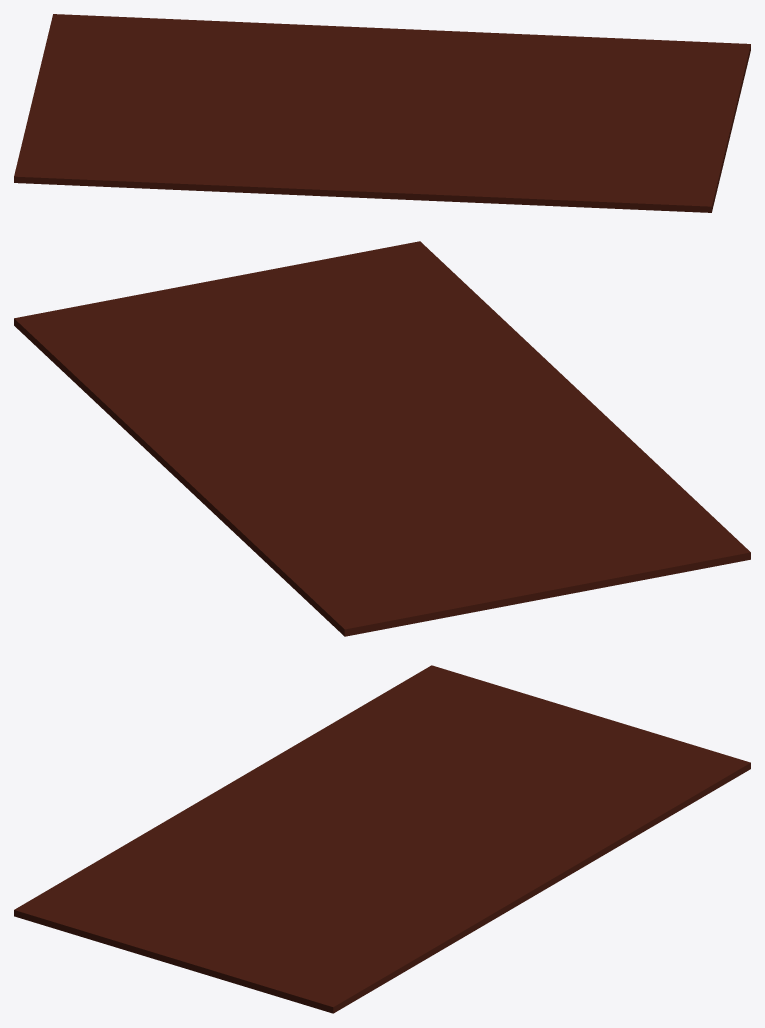
File: trab edu tapete2.fbx
The picture shows the model from 3 angles, top to bottom: view 1: azimuth 30°, elevation 25°; view 2: azimuth 150°, elevation 25°; view 3: azimuth 270°, elevation 25°; orthographic projection. The views are drawn at different scales.
Parts seen in each view (by area): view 1: Cubo.003; view 2: Cubo.003; view 3: Cubo.003.
Boxes of the visible parts, bbox=[...] form: Cubo.003: bbox=[14, 14, 750, 212]; Cubo.003: bbox=[14, 241, 750, 636]; Cubo.003: bbox=[14, 665, 750, 1013].
Size of the model in its own units: 978 by 8.58 by 891.
